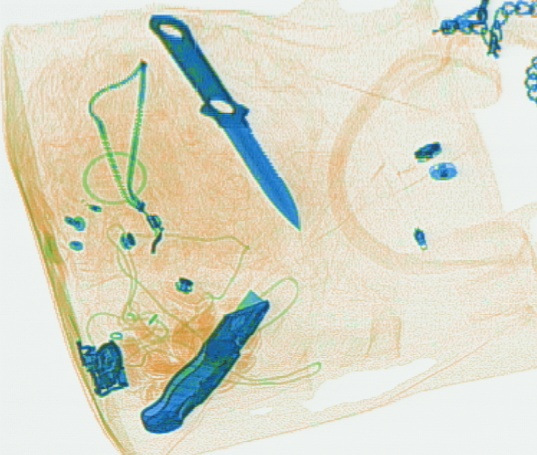knife: (144, 12, 302, 230), (137, 285, 268, 435)
